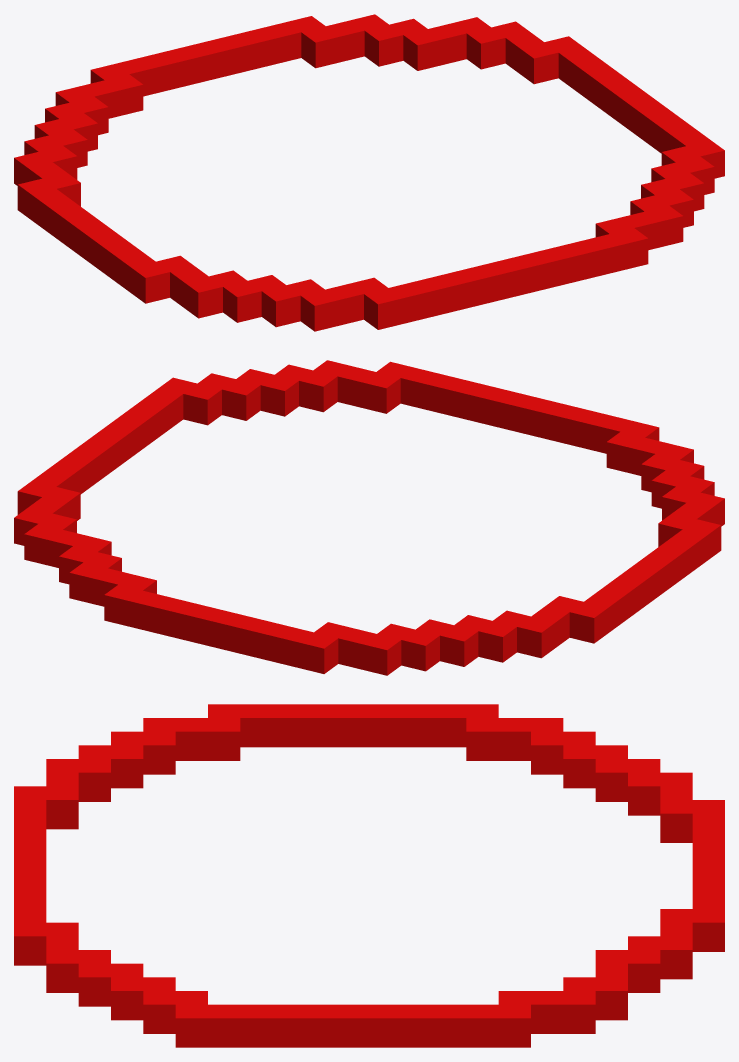
File: halp-0.obj
3 views of the same model, one above another, from view 1: azimuth 30°, elevation 25°; view 2: azimuth 150°, elevation 25°; view 3: azimuth 270°, elevation 25° (orthographic). The views are drawn at different scales.
Bounding box in the file's own units: 2.3 × 0.1 × 2.2.
1 material, 1 textured.
